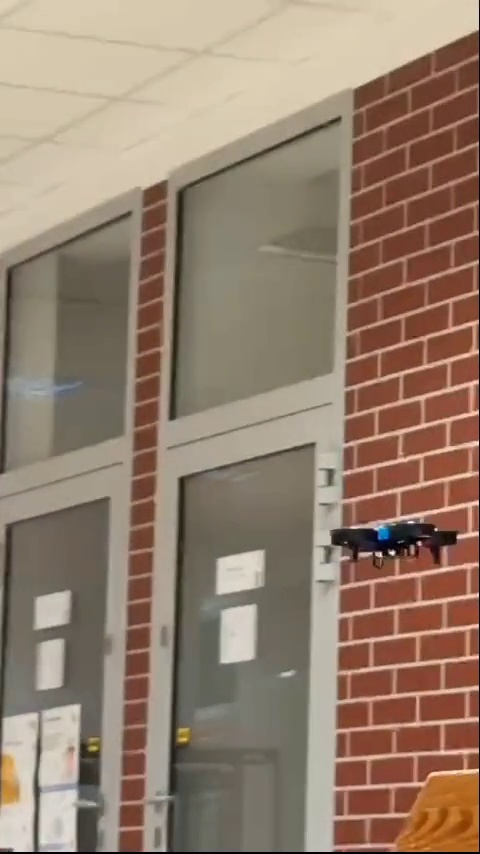drone: (325, 521, 457, 560)
